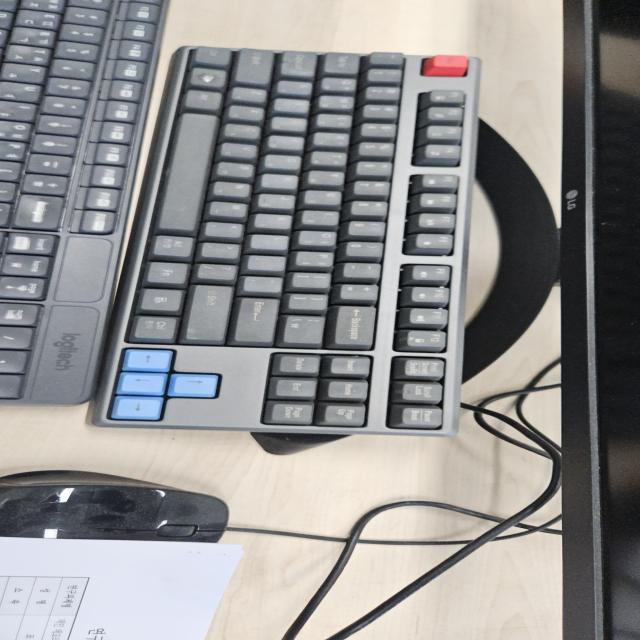Keyboard: (87, 44, 480, 438)
Mouse: (1, 468, 232, 544)
